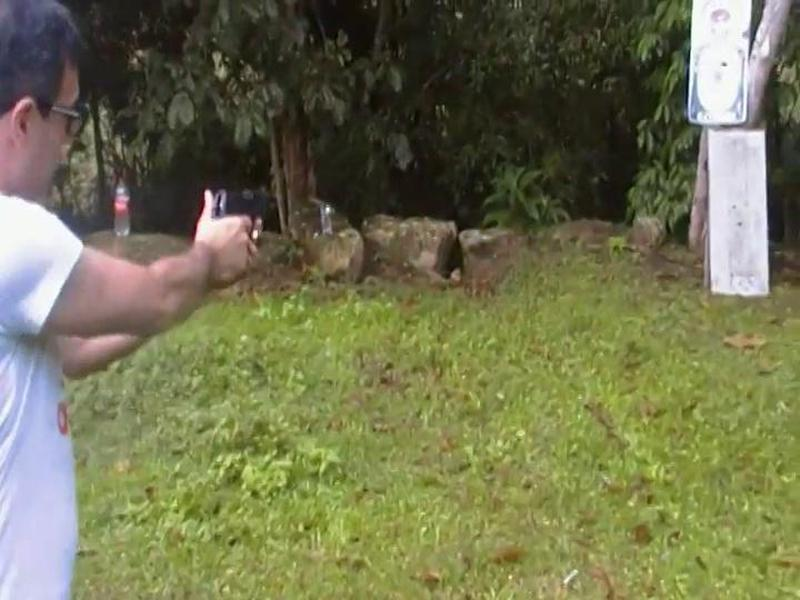Pistola: (196, 166, 291, 256)
